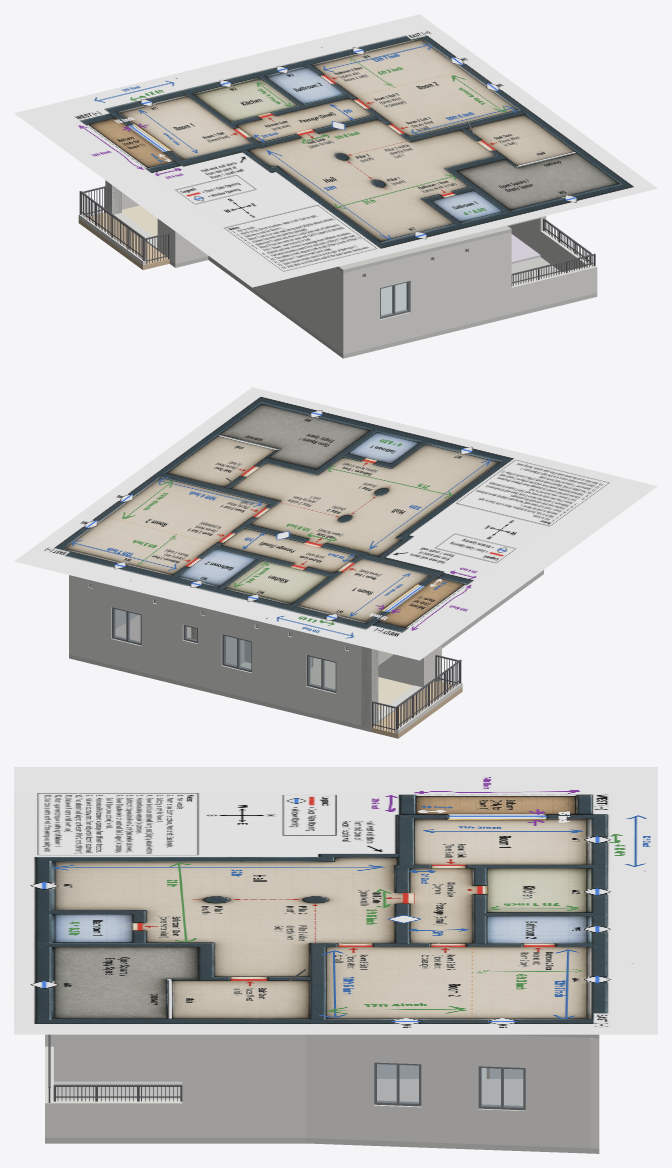
File: MyFlat_V1_1_Architecture.glb
3 views of the same model, one above another, from view 1: azimuth 30°, elevation 25°; view 2: azimuth 150°, elevation 25°; view 3: azimuth 270°, elevation 25° (orthographic). The views are drawn at different scales.
Visible parts, largest first — view 1: PLAN_REFERENCE_OVERLAY, WALL_EXT_S_HALL, WALL_EXT_W_HALL, SLAB_FLOOR_STRUCTURAL, PARAPET_OPENSQ_S, BALCONY_RAILING_W, BALCONY_FLOOR, SLAB_ROOF, WALL_EXT_W_R1_BALCONY, PARAPET_OPENSQ_E, RAILING_OPENSQ_S, WALL_EXT_E_STAIR (+5 smaller); view 2: PLAN_REFERENCE_OVERLAY, WALL_EXT_N_R2, WALL_EXT_N_R1, WALL_EXT_N_KIT, WALL_EXT_N_B2, SLAB_FLOOR_STRUCTURAL, BALCONY_RAILING_W, BALCONY_FLOOR, PILLAR_R1_NW, FLOOR_R1, WALL_EXT_W_R1_BALCONY, WALL_R1_S_RAISED (+4 smaller); view 3: PLAN_REFERENCE_OVERLAY, WALL_EXT_E_R2_TAPERED, WALL_EXT_E_STAIR, WALL_INT_OPENSQ_W, PARAPET_OPENSQ_E, SLAB_FLOOR_STRUCTURAL, FLOOR_R2, WINDOW_W5_GLASS, FLOOR_OPENSQ, WINDOW_W6_GLASS, RAILING_OPENSQ_E, WALL_EXT_N_R2 (+4 smaller).
Boxes of the visible parts, box(x1,y1,x2,y2) form: PLAN_REFERENCE_OVERLAY: box(14, 14, 657, 287); WALL_EXT_S_HALL: box(340, 232, 511, 354); WALL_EXT_W_HALL: box(209, 256, 348, 354); SLAB_FLOOR_STRUCTURAL: box(169, 256, 597, 358); PARAPET_OPENSQ_S: box(511, 264, 597, 313); BALCONY_RAILING_W: box(79, 191, 144, 260); BALCONY_FLOOR: box(78, 212, 169, 269); SLAB_ROOF: box(335, 225, 511, 273); WALL_EXT_W_R1_BALCONY: box(107, 184, 184, 263); PARAPET_OPENSQ_E: box(540, 230, 593, 272); RAILING_OPENSQ_S: box(511, 253, 595, 286); WALL_EXT_E_STAIR: box(508, 216, 546, 254); PLAN_REFERENCE_OVERLAY: box(14, 387, 657, 660); WALL_EXT_N_R2: box(69, 575, 171, 679); WALL_EXT_N_R1: box(265, 623, 372, 727); WALL_EXT_N_KIT: box(208, 609, 264, 701); WALL_EXT_N_B2: box(172, 600, 208, 688); SLAB_FLOOR_STRUCTURAL: box(69, 570, 543, 731); BALCONY_RAILING_W: box(396, 659, 461, 729); BALCONY_FLOOR: box(371, 681, 462, 738); PILLAR_R1_NW: box(361, 646, 378, 727); FLOOR_R1: box(310, 660, 413, 711); WALL_EXT_W_R1_BALCONY: box(362, 647, 438, 727); WALL_R1_S_RAISED: box(378, 654, 414, 685); PLAN_REFERENCE_OVERLAY: box(14, 767, 657, 1034); WALL_EXT_E_R2_TAPERED: box(306, 1034, 590, 1148); WALL_EXT_E_STAIR: box(182, 1034, 305, 1137); WALL_INT_OPENSQ_W: box(54, 1034, 182, 1081); PARAPET_OPENSQ_E: box(54, 1099, 182, 1137); SLAB_FLOOR_STRUCTURAL: box(45, 1081, 599, 1153); FLOOR_R2: box(377, 1079, 523, 1105); WINDOW_W5_GLASS: box(481, 1068, 523, 1106); FLOOR_OPENSQ: box(54, 1081, 182, 1099); WINDOW_W6_GLASS: box(377, 1064, 418, 1103); RAILING_OPENSQ_E: box(53, 1084, 182, 1101); WALL_EXT_N_R2: box(590, 1038, 599, 1148).
Size of what is drawn, in the model's own units: 16.28 by 4.33 by 16.55.
Materials: 22 (1 with a texture image).
